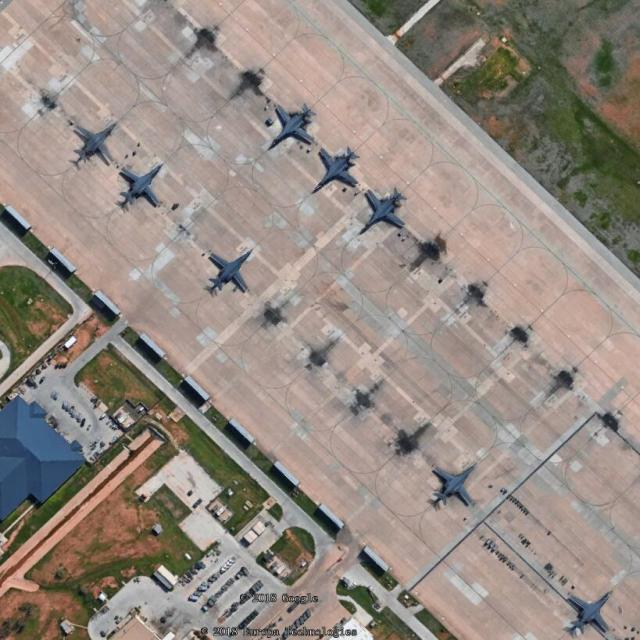fighter jet: (427, 456, 478, 523), (120, 147, 164, 224), (212, 232, 250, 317), (266, 92, 305, 161), (364, 182, 403, 246), (316, 140, 355, 202), (572, 575, 608, 640), (74, 116, 110, 178)
